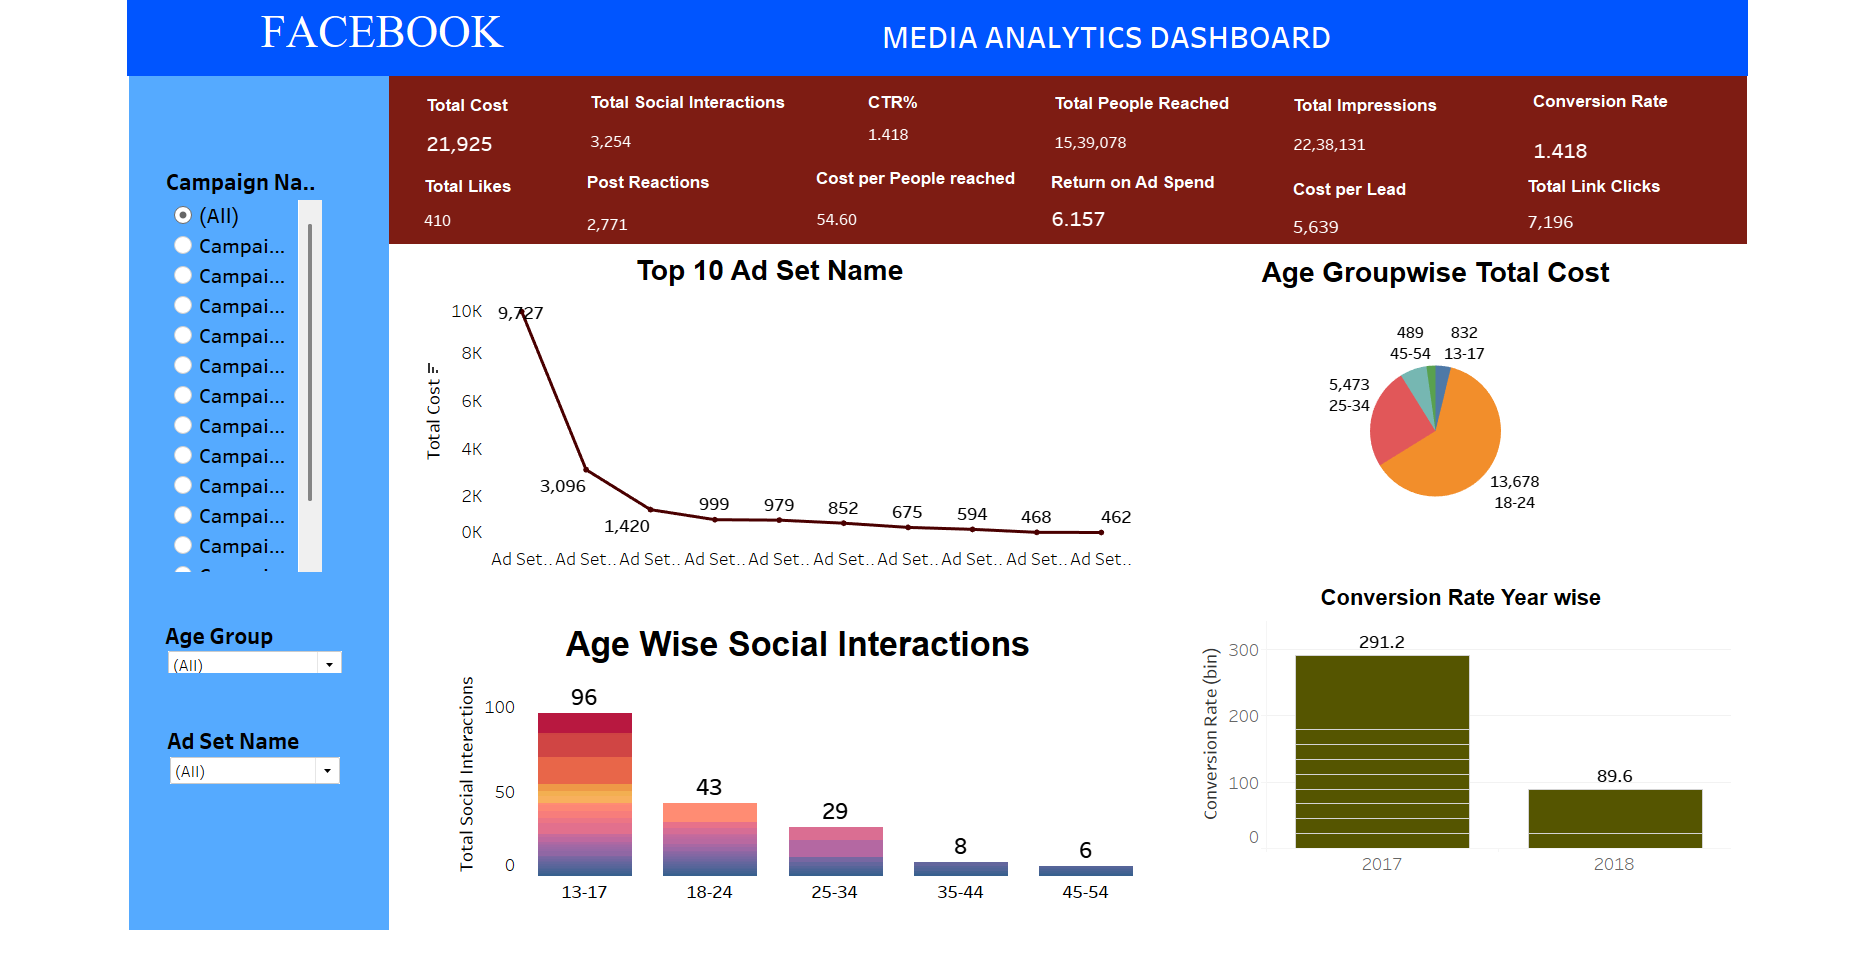

The dashboard page shown, as its layout file describes it:
{"tool":"powerbi","page":{"name":"facebook","canvas":[1280,720],"ordinal":0},"visuals":[{"type":"shape","box":[32.6,145.1,80.9,229.8],"z":0},{"type":"shape","box":[32.6,145.1,80.9,78.1],"z":1000},{"type":"card","title":"Total cost","fields":{"Values":["Sum(Facebook.Cost)"]},"box":[164.7,190.7,173,67.9],"z":2000},{"type":"card","title":"Total Impressions","fields":{"Values":["Sum(Facebook.Impressions)"]},"box":[164.7,107,173,70.7],"z":3000},{"type":"card","title":"Conversion Rate","fields":{"Values":["Sum(Facebook.ConversionRate)"]},"box":[367.4,107,171.2,71.6],"z":4000},{"type":"card","title":"Pages likes","fields":{"Values":["Sum(Facebook.Page Likes)"]},"box":[575.8,107,203.7,70.7],"z":5000},{"type":"card","title":"Cost Per Lead","fields":{"Values":["Sum(Facebook.CPL (Cost per Lead))"]},"box":[807.4,107,180.5,73.5],"z":6000},{"type":"card","title":"social Interactions","fields":{"Values":["Sum(Facebook.Total Social Interactions)"]},"box":[1012.1,107,193.5,73.5],"z":7000},{"type":"card","title":"Total likes","fields":{"Values":["Sum(Facebook.Page Likes)"]},"box":[1012.1,188.8,193.5,67.9],"z":8000},{"type":"card","title":"Page Likes","fields":{"Values":["Sum(Facebook.Post Reactions)"]},"box":[807.4,192.6,180.5,67],"z":9000},{"type":"card","title":"Total Link Clicks","fields":{"Values":["Sum(Facebook.Total Link Clicks)"]},"box":[575.8,191.6,203.7,67.9],"z":10000},{"type":"card","title":"Post Reactions","fields":{"Values":["Sum(Facebook.Cost per People Reached)"]},"box":[367.4,191.6,171.2,67],"z":11000},{"type":"lineChart","title":"Top 10 AD Set Name","fields":{"Category":["Facebook.Ad Set Name"],"Y":["Sum(Facebook.Cost)"]},"box":[164.7,268.8,554.4,206.5],"z":12000},{"type":"pieChart","title":"Age Groupwise Total Cost","fields":{"Category":["Facebook.Age Group"],"Y":["Sum(Facebook.Cost)"]},"box":[739.5,273.5,466,201.9],"z":13000},{"type":"columnChart","title":"Total Social Interactions by Age Group","fields":{"Category":["Facebook.Age Group"],"Y":["Sum(Facebook.Total Social Interactions)"]},"box":[164.7,494.9,554.4,215.8],"z":14000},{"type":"barChart","title":"Conversion Rate Yearwise","fields":{"Category":["Facebook.ReportDate.Variation.Date Hierarchy.Year"],"Y":["Sum(Facebook.ConversionRate)"]},"box":[739.5,494.9,466,215.8],"z":15000},{"type":"slicer","fields":{"Values":["Facebook.Ad Set Name"]},"box":[524.8,16,179.6,68.8],"z":16000},{"type":"slicer","fields":{"Values":["Facebook.Campaign Name"]},"box":[731.3,13,179.6,68.8],"z":17000},{"type":"image","box":[49.3,309.8,48.4,47.4],"z":18000},{"type":"image","box":[40.9,155.3,64.2,59.5],"z":19000},{"type":"textbox","box":[32.9,16,452.9,67.8],"z":20000},{"type":"image","box":[1141.5,22.5,64.2,49.5],"z":21000},{"type":"slicer","fields":{"Values":["Facebook.Age Group"]},"box":[933.3,13.5,188,68.7],"z":22000},{"type":"slicer","fields":{"Values":["Facebook.ReportDate.Variation.Date Hierarchy.Quarter"]},"box":[19.1,544.9,109.2,156.5],"z":23000},{"type":"slicer","fields":{"Values":["Facebook.ReportDate.Variation.Date Hierarchy.Year"]},"box":[19.1,427.8,109.2,103.6],"z":24000},{"type":"image","box":[34,236.2,77.7,53.2],"z":25000}]}

Visuals, with their boxes on the page's 1280x720 design canvas (x1, y1, x2, y2). These are canvas units, not pixel positions in the 1862x973 screenshot, which may show the page scaled, cropped or inside an application window:
shape: Rect(33, 145, 114, 375)
shape: Rect(33, 145, 114, 223)
"Total cost" card: Rect(165, 191, 338, 259)
"Total Impressions" card: Rect(165, 107, 338, 178)
"Conversion Rate" card: Rect(367, 107, 539, 179)
"Pages likes" card: Rect(576, 107, 780, 178)
"Cost Per Lead" card: Rect(807, 107, 988, 180)
"social Interactions" card: Rect(1012, 107, 1206, 180)
"Total likes" card: Rect(1012, 189, 1206, 257)
"Page Likes" card: Rect(807, 193, 988, 260)
"Total Link Clicks" card: Rect(576, 192, 780, 260)
"Post Reactions" card: Rect(367, 192, 539, 259)
"Top 10 AD Set Name" lineChart: Rect(165, 269, 719, 475)
"Age Groupwise Total Cost" pieChart: Rect(740, 274, 1206, 475)
"Total Social Interactions by Age Group" columnChart: Rect(165, 495, 719, 711)
"Conversion Rate Yearwise" barChart: Rect(740, 495, 1206, 711)
slicer - Facebook.Ad Set Name: Rect(525, 16, 704, 85)
slicer - Facebook.Campaign Name: Rect(731, 13, 911, 82)
image: Rect(49, 310, 98, 357)
image: Rect(41, 155, 105, 215)
textbox: Rect(33, 16, 486, 84)
image: Rect(1142, 22, 1206, 72)
slicer - Facebook.Age Group: Rect(933, 14, 1121, 82)
slicer - Facebook.ReportDate.Variation.Date Hierarchy.Quarter: Rect(19, 545, 128, 701)
slicer - Facebook.ReportDate.Variation.Date Hierarchy.Year: Rect(19, 428, 128, 531)
image: Rect(34, 236, 112, 289)
